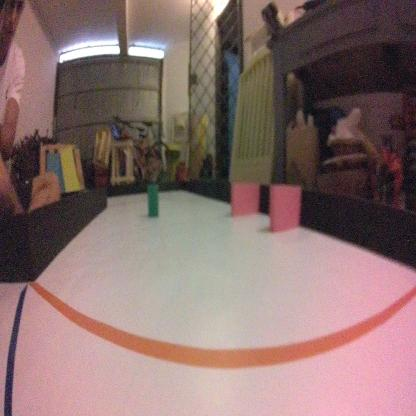green: (145, 177, 159, 216)
magenta: (268, 182, 299, 235), (230, 181, 259, 218)
